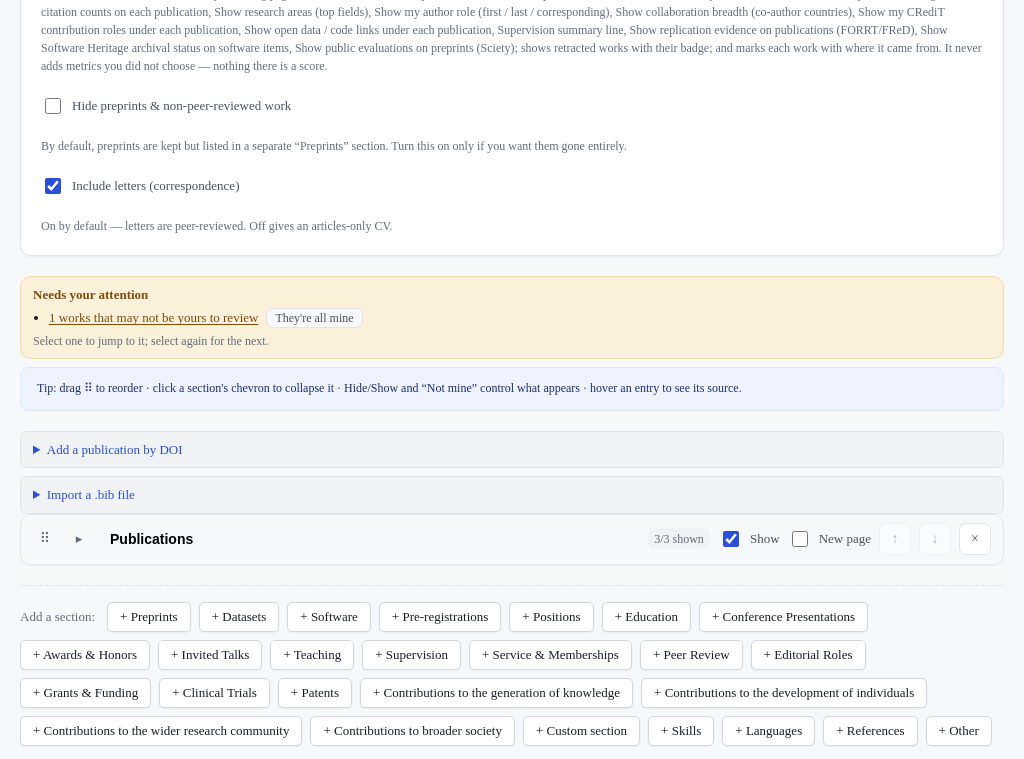
it: Confirm is offered only where there is something to doubt › reads as confirmed once stamped
(page scrolled)
Click the button with class "section-toggle". click: click(79, 539)
box: [65,525,93,553]
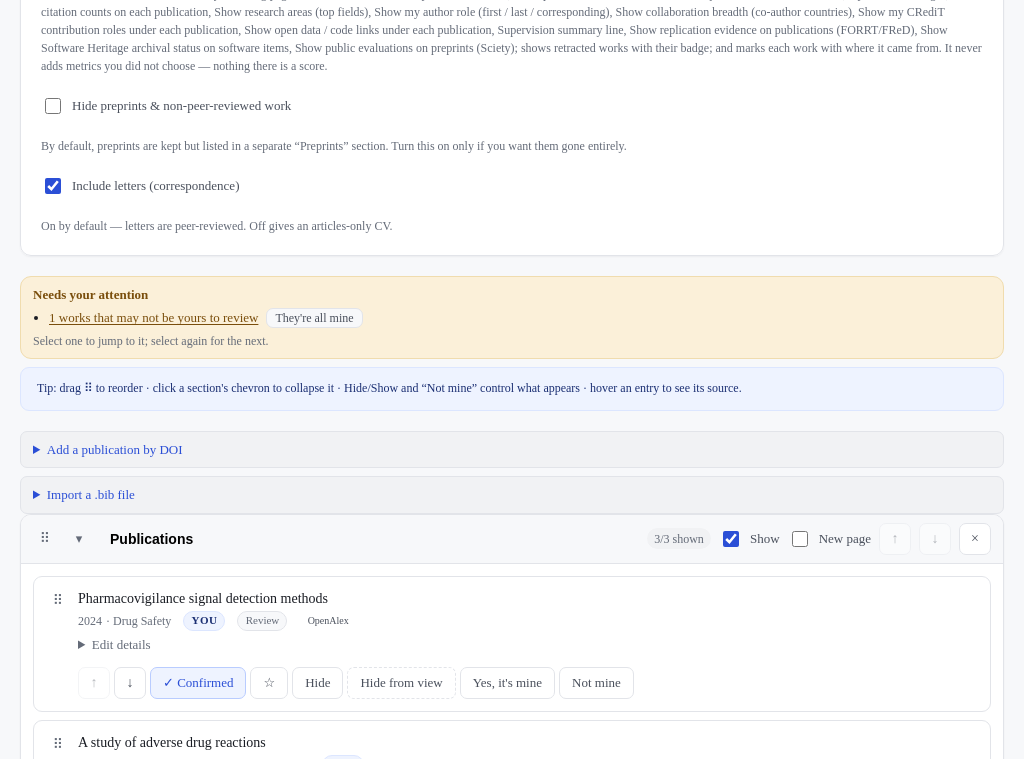
expect the button with class "is-review" shows "Confirmed": met, box [150,667,246,699]
